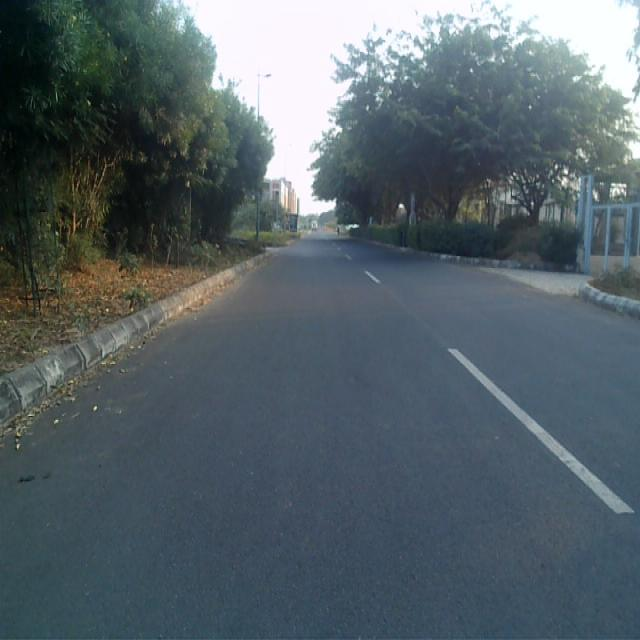lane: (0, 236, 640, 640)
